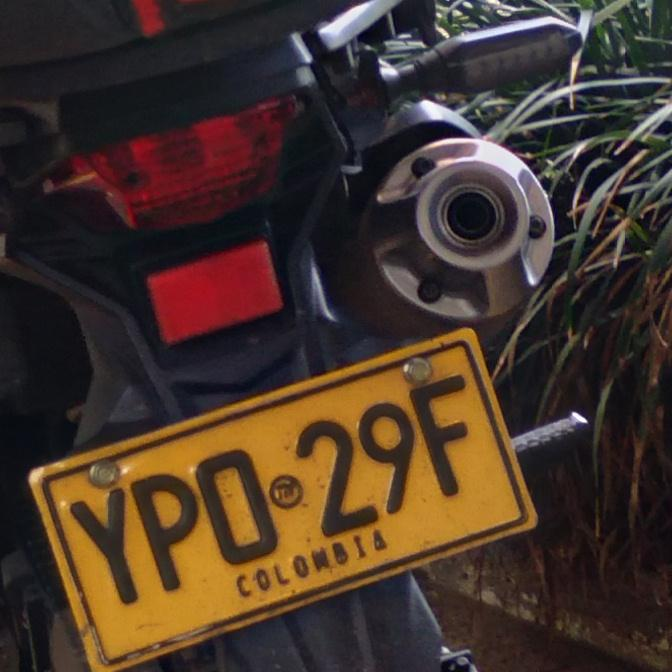plates: (31, 337, 538, 672)
